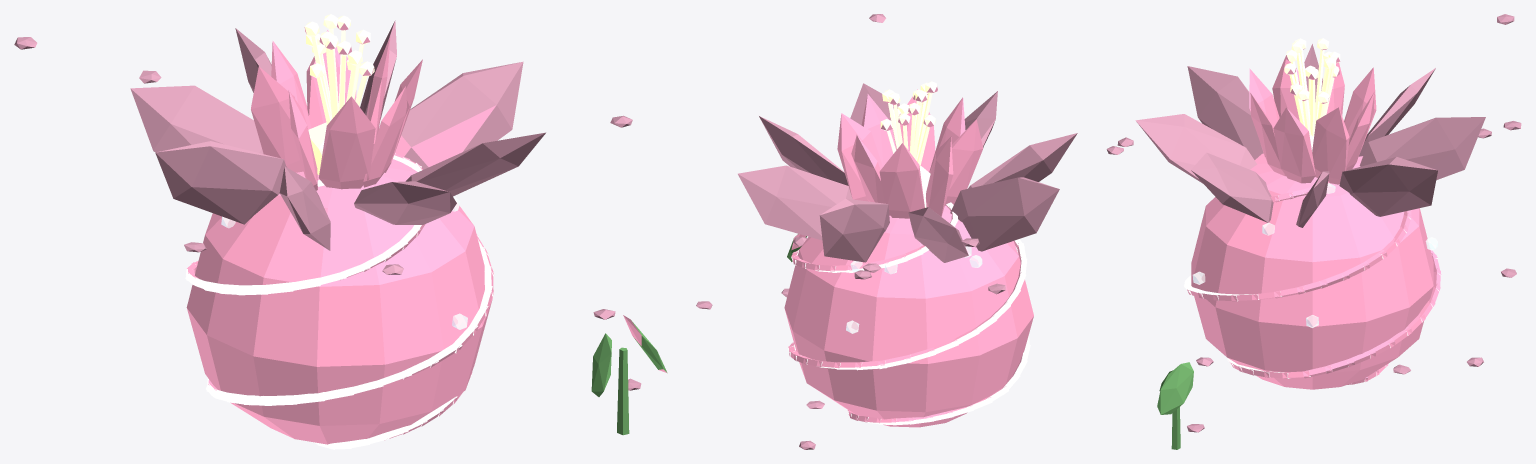
Rendered from fruto-origem.glb.
The picture shows the model from 3 angles, left to right: view 1: azimuth 30°, elevation 25°; view 2: azimuth 150°, elevation 25°; view 3: azimuth 270°, elevation 25°; orthographic projection. The views are drawn at different scales.
Parts seen in each view (by area): view 1: Fruit_Body; view 2: Fruit_Body; view 3: Fruit_Body.
Boxes of the visible parts, x1,y1,x2,y2 form: Fruit_Body: [14, 14, 667, 449]; Fruit_Body: [696, 14, 1077, 449]; Fruit_Body: [1106, 14, 1521, 449].
Bounding box in the file's own units: 1.65 × 1.43 × 1.67.
